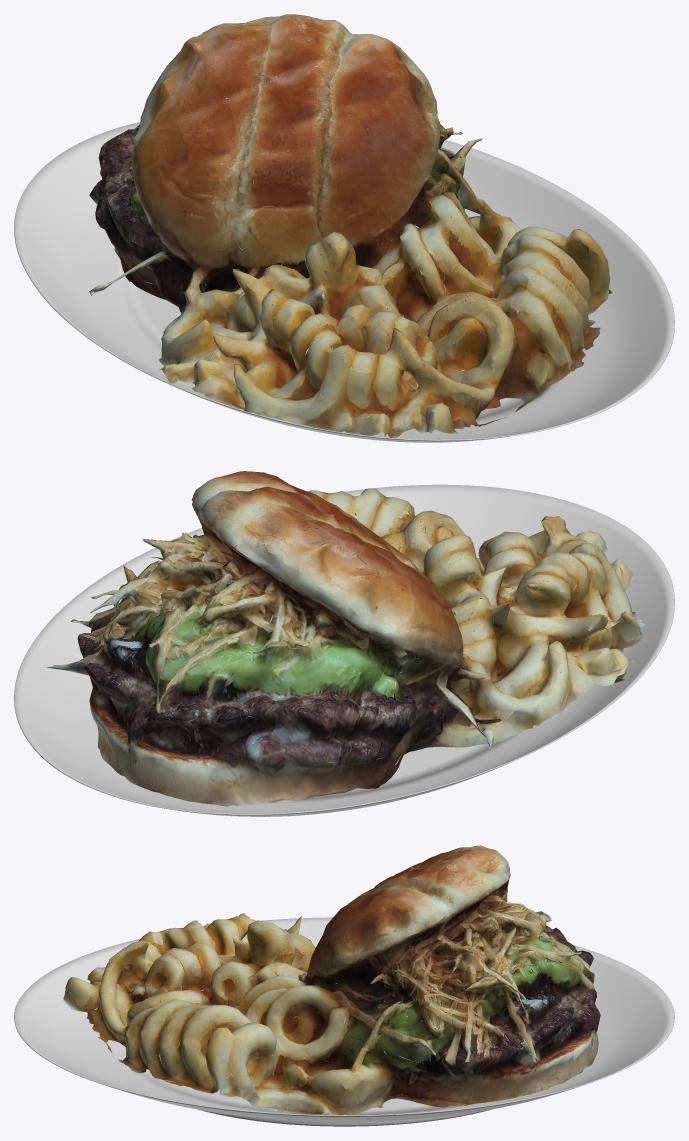
Rendered from Burger02.fbx.
3 renders of one model, top to bottom at view 1: azimuth 30°, elevation 25°; view 2: azimuth 150°, elevation 25°; view 3: azimuth 270°, elevation 25°, orthographic. The views are drawn at different scales.
Visible parts, largest first — view 1: Burger, Plate; view 2: Burger, Plate; view 3: Burger, Plate.
Part boxes in pixels (left/top/right/bottom): Burger: left=89, top=14, right=612, bottom=438; Plate: left=14, top=122, right=674, bottom=442; Burger: left=46, top=471, right=644, bottom=807; Plate: left=14, top=484, right=674, bottom=816; Burger: left=63, top=845, right=600, bottom=1115; Plate: left=14, top=917, right=674, bottom=1126.
Size of the model in its own units: 265 by 130 by 373.
